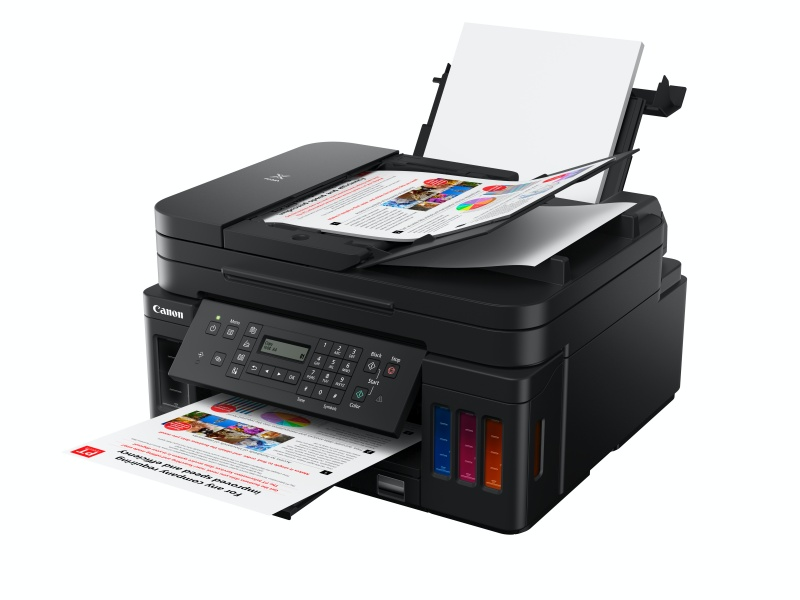printer: (75, 56, 689, 537)
